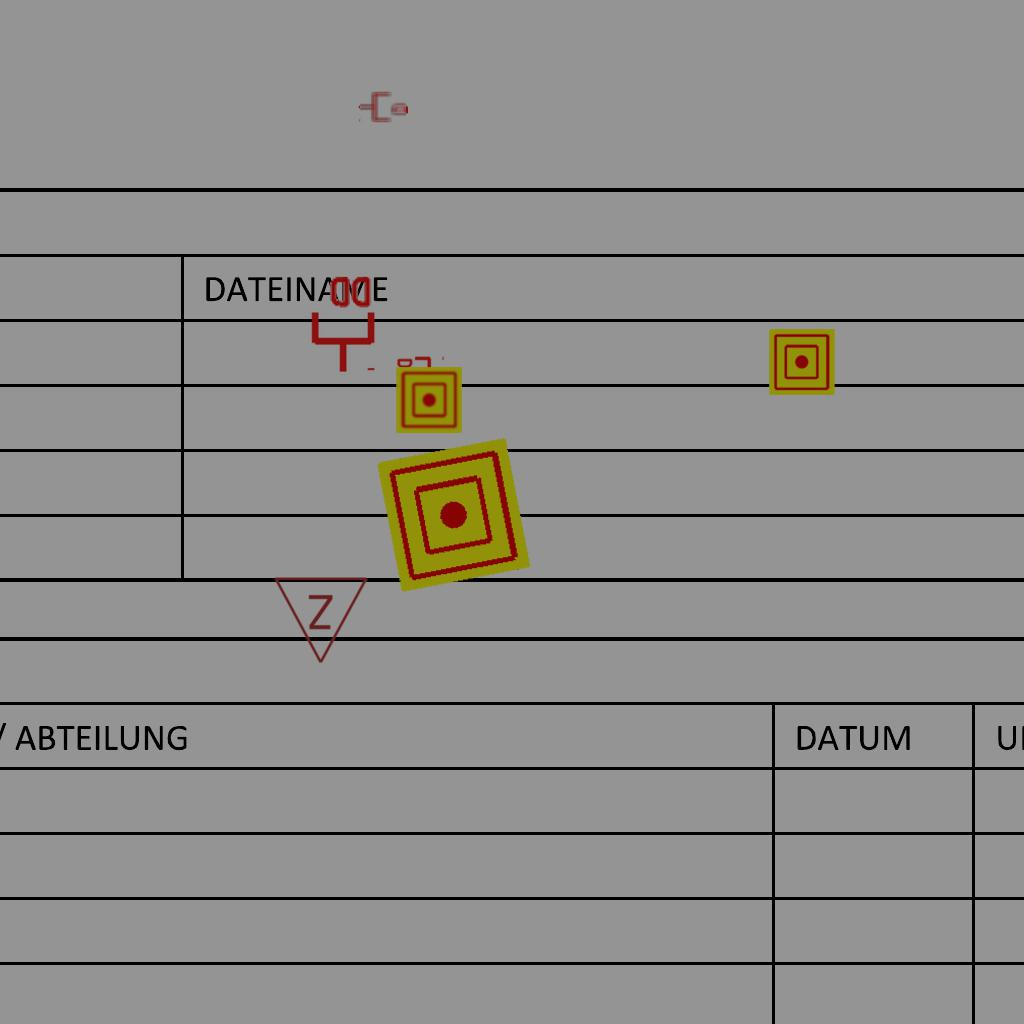Datenanschluss_einfach: (358, 90, 408, 124)
Datenanschluss_zweifach: (307, 272, 376, 375), (395, 356, 446, 390)
NAM-Nichtautomatischer_Melder: (376, 437, 532, 593), (769, 329, 835, 395), (396, 367, 462, 433)
Zimmersignalleuchte: (273, 570, 371, 670)
